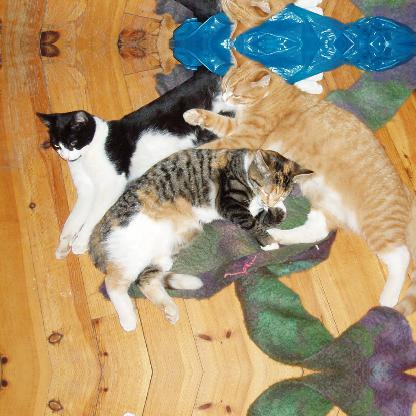Cat: (182, 46, 414, 316), (88, 146, 314, 330), (36, 62, 236, 258)
